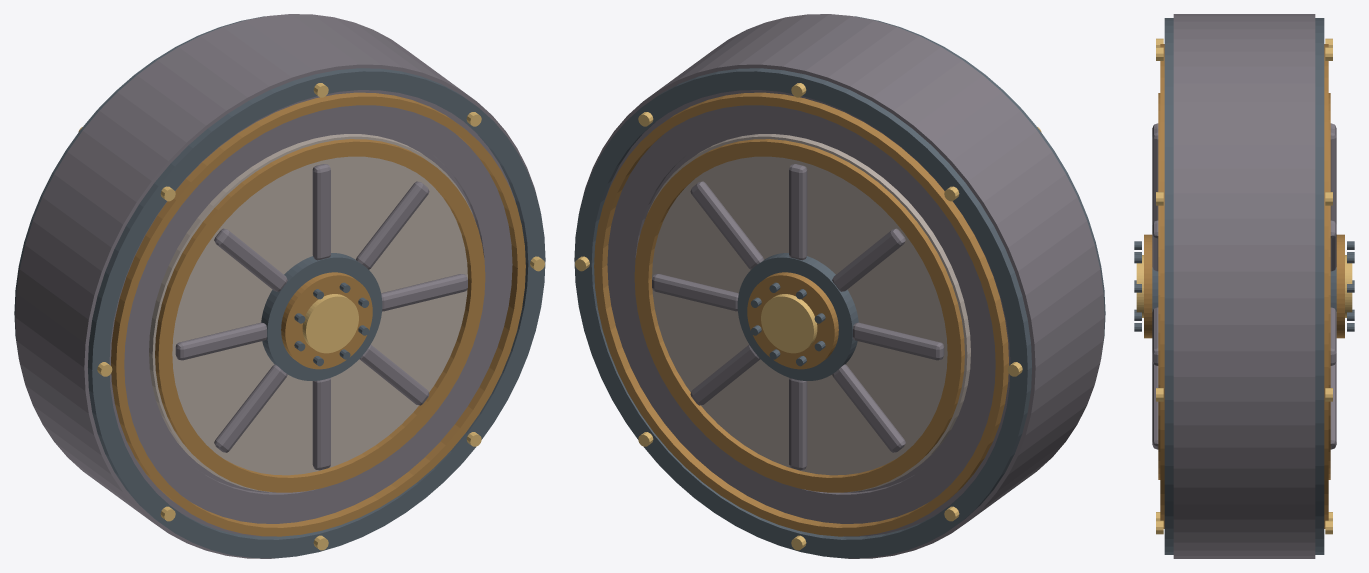
The model's file is Wheel_Refined_High.fbx.
3 views of the same model, side by side, from view 1: azimuth 30°, elevation 25°; view 2: azimuth 150°, elevation 25°; view 3: azimuth 270°, elevation 25° (orthographic). The views are drawn at different scales.
Parts seen in each view (by area): view 1: Wheel_Refined_High; view 2: Wheel_Refined_High; view 3: Wheel_Refined_High.
Boxes of the visible parts, box(x1,y1,x2,y2) form: Wheel_Refined_High: box(14, 14, 545, 558); Wheel_Refined_High: box(574, 14, 1105, 558); Wheel_Refined_High: box(1134, 14, 1354, 558).
Size of the model in its own units: 200 by 80.8 by 200.
